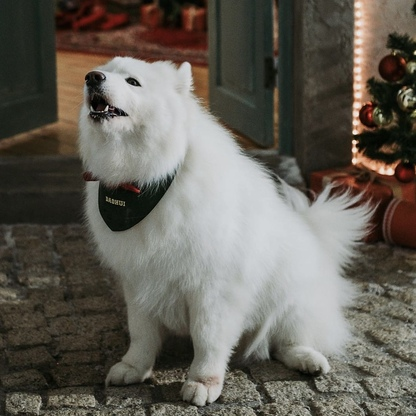samoyed: (69, 47, 381, 410)
